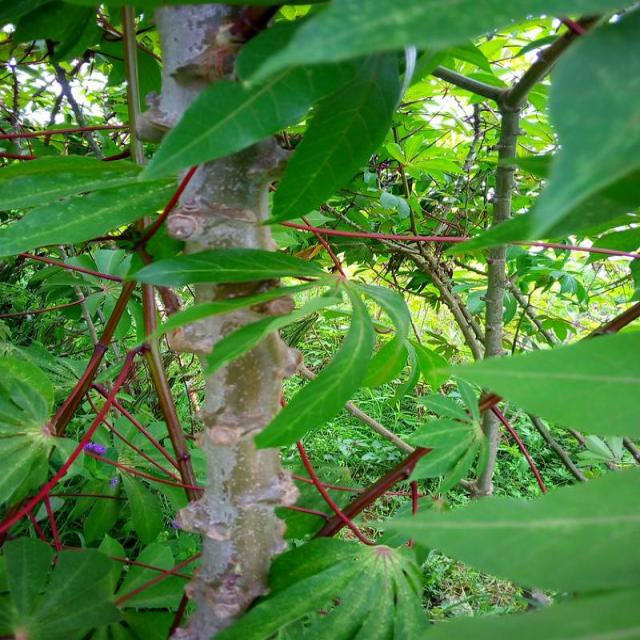cassava leaf: (442, 3, 638, 256), (411, 326, 639, 440), (210, 534, 430, 638), (0, 152, 179, 258)
